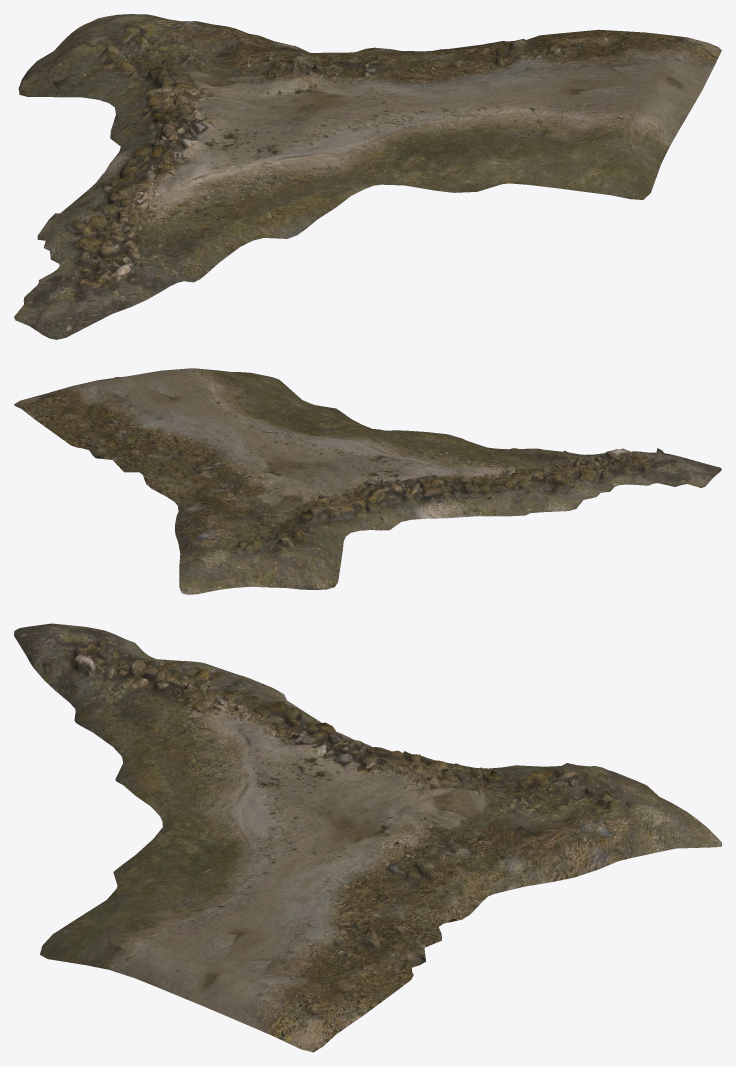
The model's file is coast_rocks_01.glb.
3 renders of one model, top to bottom at view 1: azimuth 30°, elevation 25°; view 2: azimuth 150°, elevation 25°; view 3: azimuth 270°, elevation 25°, orthographic. The views are drawn at different scales.
Parts seen in each view (by area): view 1: coast_rocks_01_LOD3; view 2: coast_rocks_01_LOD3; view 3: coast_rocks_01_LOD3.
Boxes of the visible parts, x1=… form: coast_rocks_01_LOD3: x1=14, y1=14, x2=721, y2=339; coast_rocks_01_LOD3: x1=14, y1=368, x2=721, y2=594; coast_rocks_01_LOD3: x1=14, y1=623, x2=721, y2=1052.
Bounding box in the file's own units: 59.51 × 3.25 × 42.52.
Materials: 1 (1 with a texture image).
